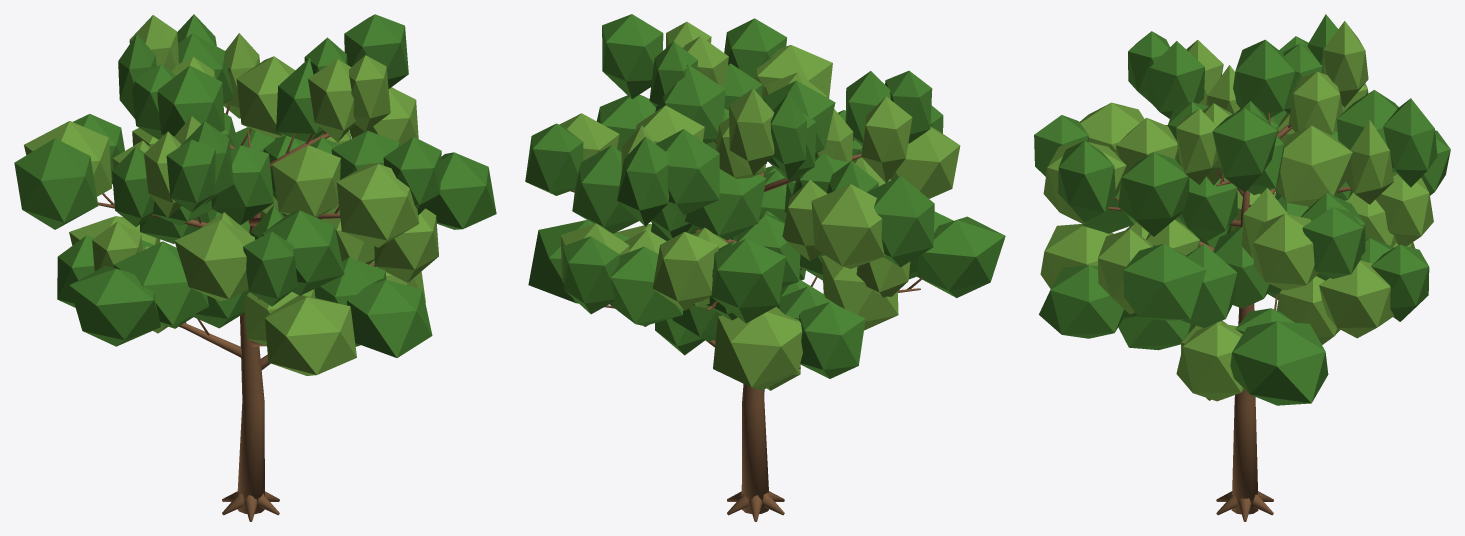
The model's file is oak-light-batched.glb.
The picture shows the model from 3 angles, left to right: view 1: azimuth 30°, elevation 25°; view 2: azimuth 150°, elevation 25°; view 3: azimuth 270°, elevation 25°; orthographic projection.
Visible parts, largest first — view 1: foliage_material_1, foliage_material_2, foliage_material_0; view 2: foliage_material_1, foliage_material_2, foliage_material_0; view 3: foliage_material_1, foliage_material_2, foliage_material_0.
Boxes of the visible parts, x1,y1,x2,y2 form: foliage_material_1: (14, 14, 496, 357); foliage_material_2: (24, 15, 438, 375); foliage_material_0: (98, 105, 375, 521); foliage_material_1: (525, 14, 1005, 378); foliage_material_2: (559, 21, 960, 390); foliage_material_0: (570, 137, 922, 521); foliage_material_1: (1034, 14, 1450, 405); foliage_material_2: (1040, 21, 1433, 401); foliage_material_0: (1108, 113, 1393, 521).
Size of the model in its own units: 7.92 by 8.77 by 7.12.
